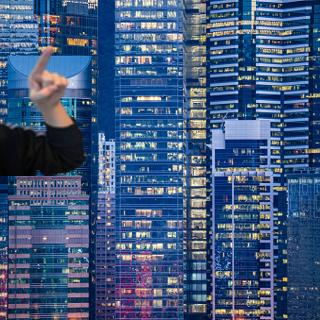IRRITATED: (26, 44, 68, 108)
